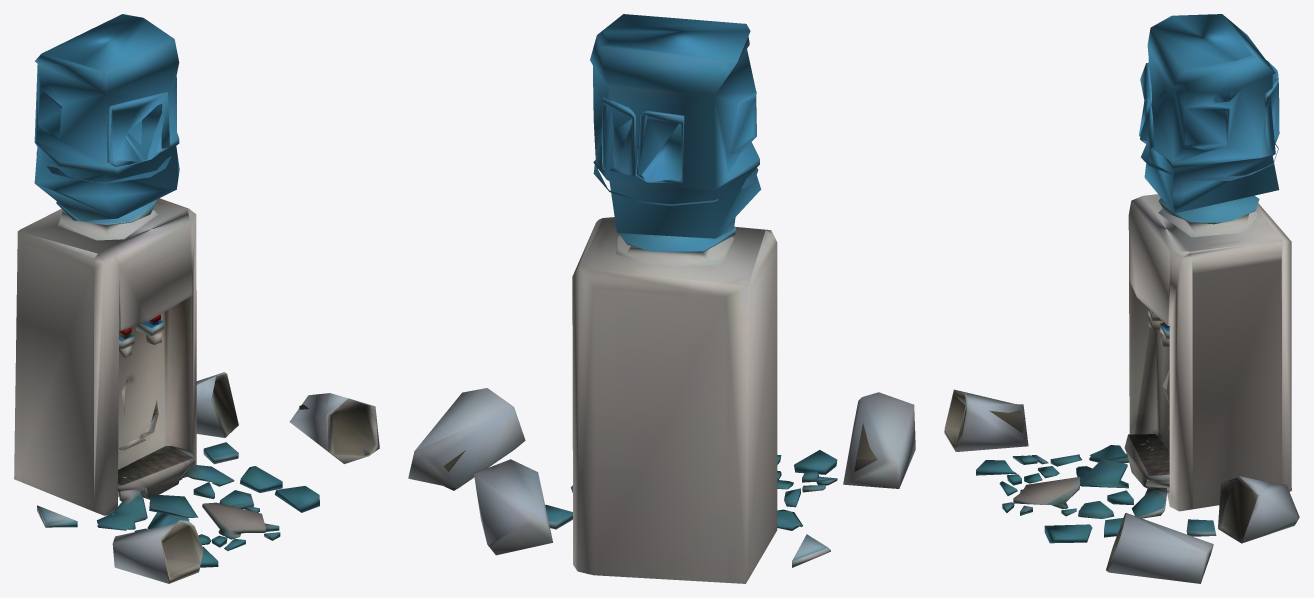
The model's file is model.progressive.glb.
3 views of the same model, side by side, from view 1: azimuth 30°, elevation 25°; view 2: azimuth 150°, elevation 25°; view 3: azimuth 270°, elevation 25° (orthographic). The views are drawn at different scales.
Parts seen in each view (by area): view 1: BrokenWaterCooler1; view 2: BrokenWaterCooler1; view 3: BrokenWaterCooler1.
Part boxes in pixels (<box>): BrokenWaterCooler1: <box>14,14,379,583</box>; BrokenWaterCooler1: <box>408,14,915,583</box>; BrokenWaterCooler1: <box>944,14,1299,583</box>.
Bounding box in the file's own units: 1.46 × 1.88 × 1.38.
1 material, 1 textured.
